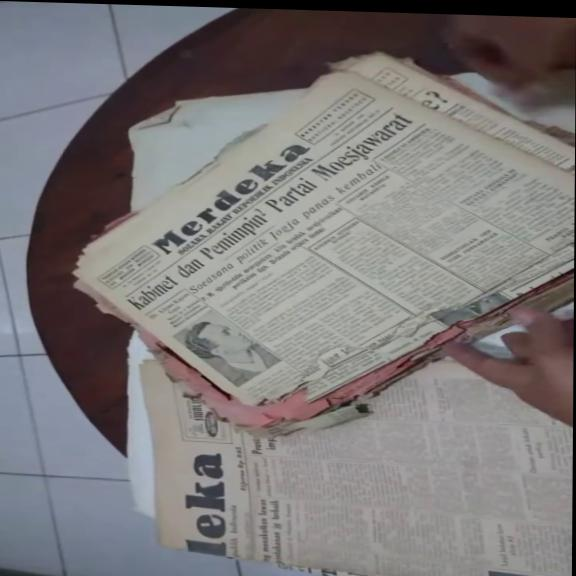Kertas: (70, 53, 575, 433), (136, 342, 574, 576)
